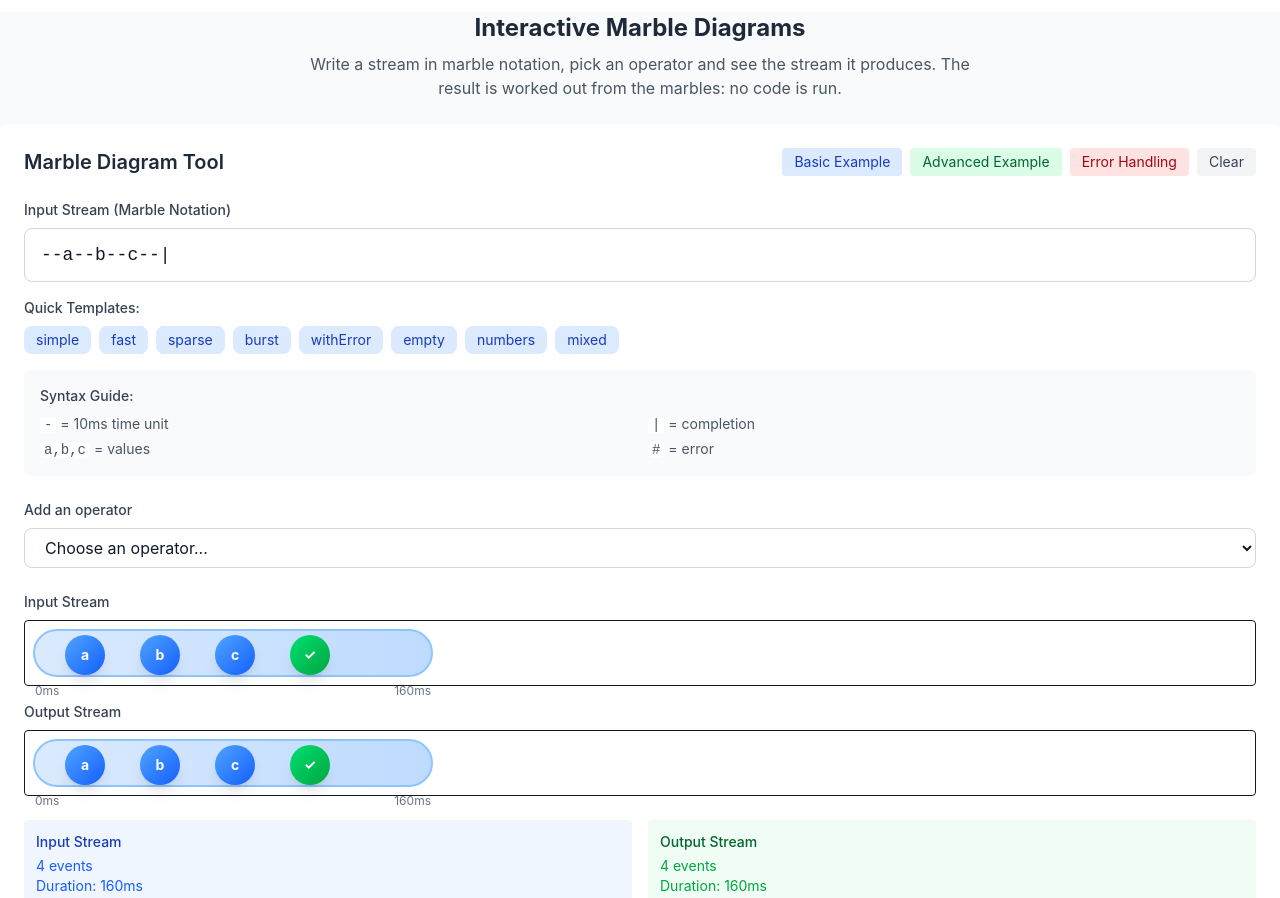
it: MarbleDiagramTool › a quick template updates the text box and the diagram
What coordinates should you click on to do the following:
click the button "withError"
I would click on:
 (341, 340)
Its box is [299,326,383,354].
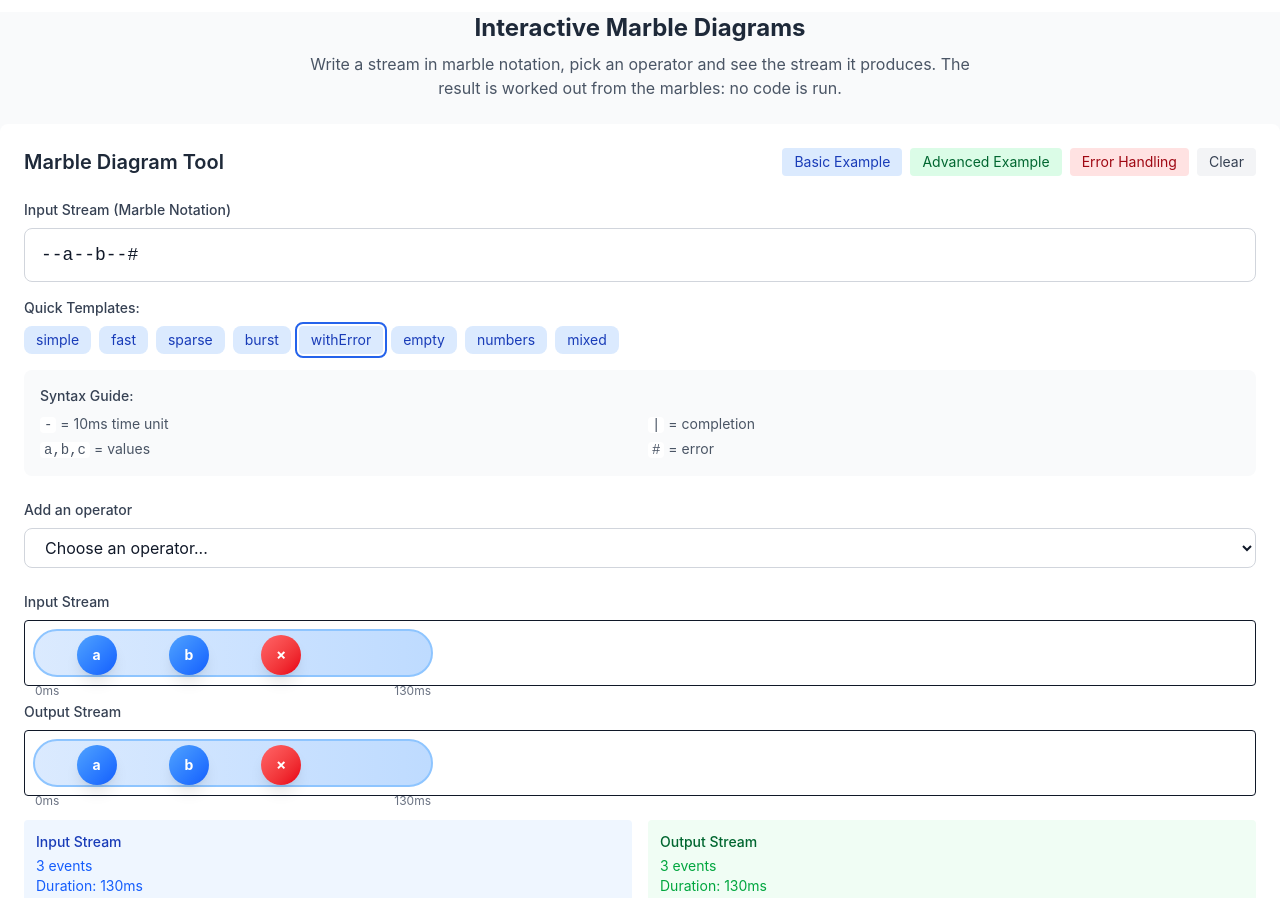
Check: the field labelled "Input Stream (Marble Notation)" holds "--a--b--#", box [24,228,1256,282]
